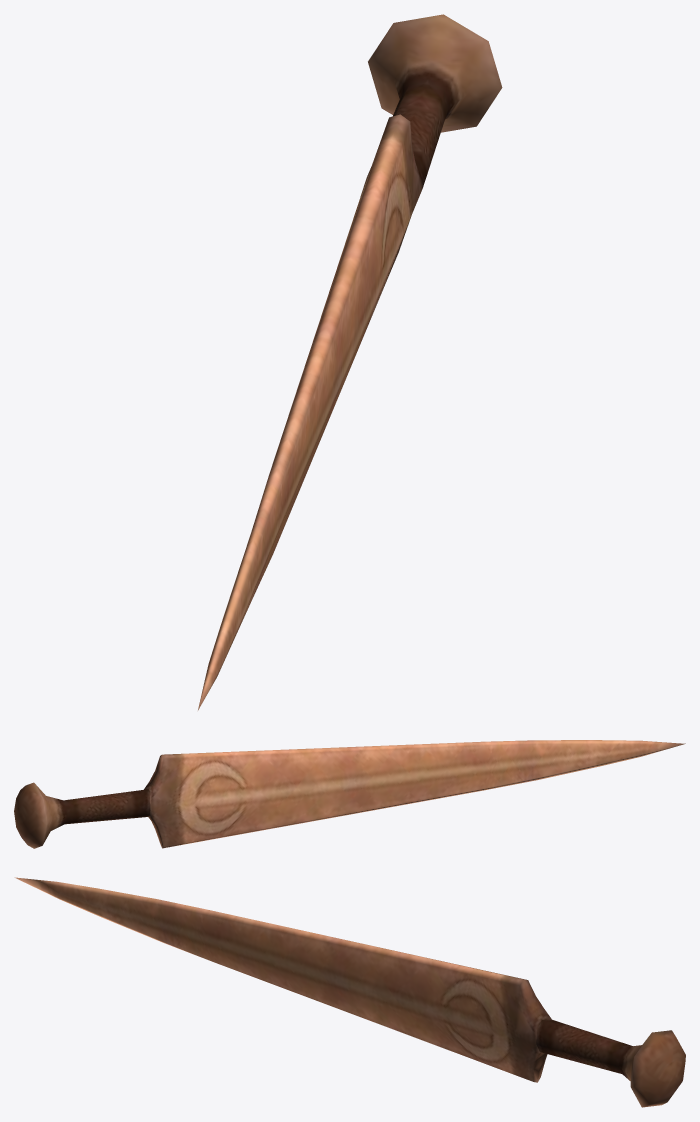
Rendered from rider-weapon-slice-copperweapons.glb.
3 renders of one model, top to bottom at view 1: azimuth 30°, elevation 25°; view 2: azimuth 150°, elevation 25°; view 3: azimuth 270°, elevation 25°, orthographic. The views are drawn at different scales.
Size of the model in its own units: 0.696 by 0.1434 by 0.8213.
1 material, 1 textured.
